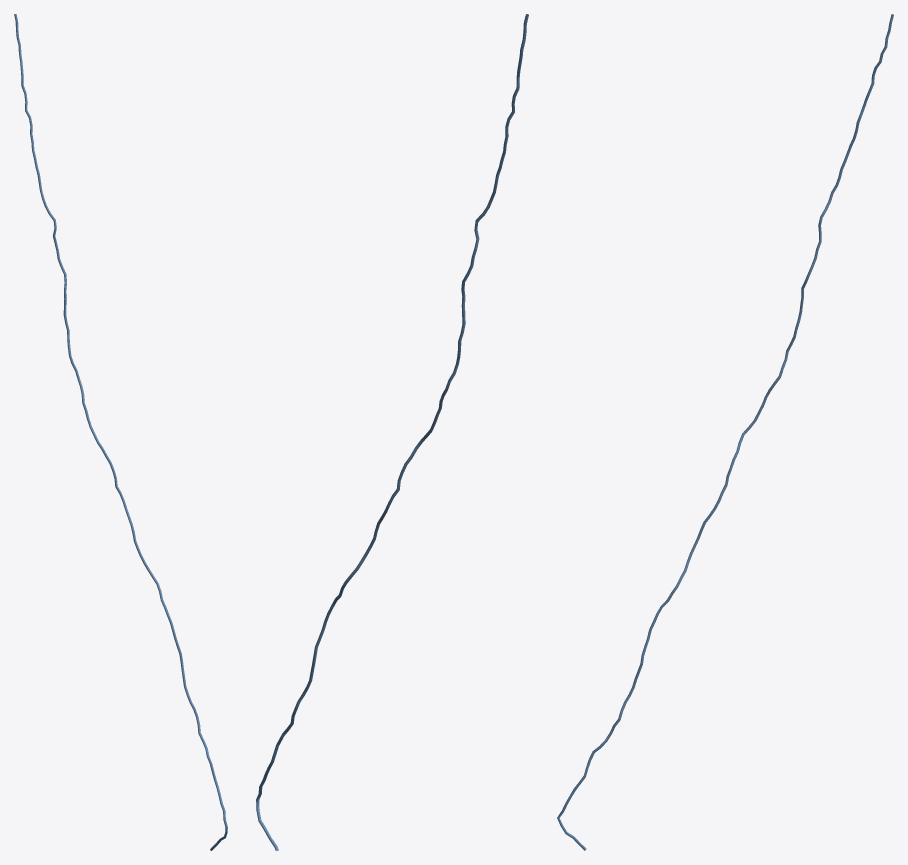
The model's file is sweep382.fbx.
3 renders of one model, left to right at view 1: azimuth 30°, elevation 25°; view 2: azimuth 210°, elevation 25°; view 3: azimuth 270°, elevation 25°, orthographic. The views are drawn at different scales.
Visible parts, largest first — view 1: sweep382; view 2: sweep382; view 3: sweep382.
Boxes of the visible parts, x1,y1,x2,y2 form: sweep382: [14, 14, 227, 850]; sweep382: [256, 14, 528, 850]; sweep382: [557, 14, 893, 850].
Size of the model in its own units: 0.5703 by 6.4 by 2.42.
